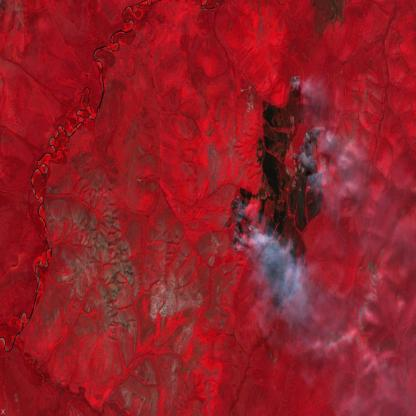fire: (298, 122, 339, 191), (224, 189, 261, 252), (268, 68, 326, 102)
